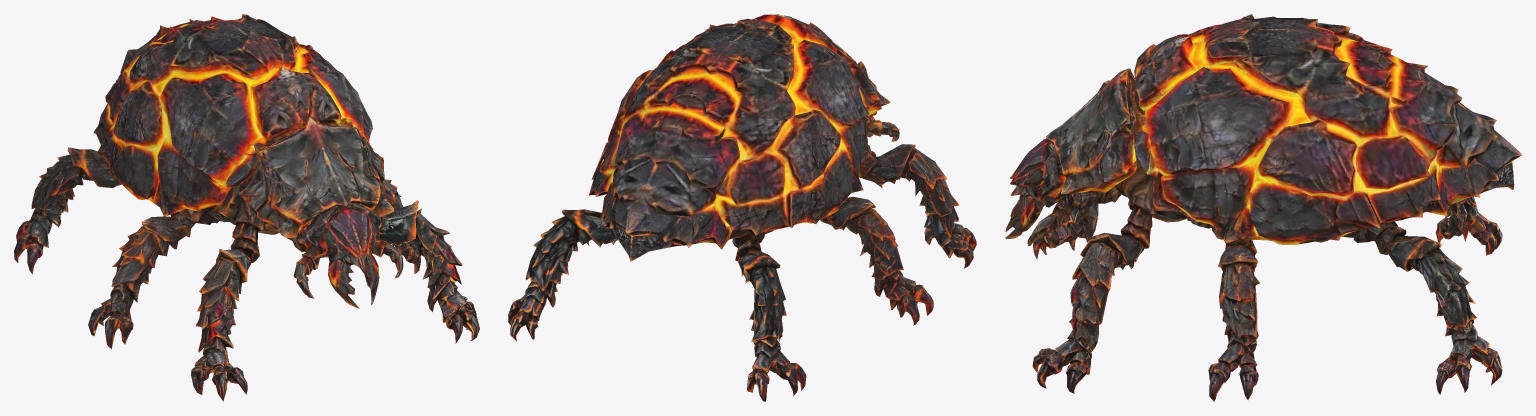
Rendered from emberbeetle.glb.
3 renders of one model, left to right at view 1: azimuth 30°, elevation 25°; view 2: azimuth 150°, elevation 25°; view 3: azimuth 270°, elevation 25°, orthographic. The views are drawn at different scales.
Visible parts, largest first — view 1: Mesh_0; view 2: Mesh_0; view 3: Mesh_0.
Boxes of the visible parts, left/top/right/bottom form: Mesh_0: left=14, top=14, right=479, bottom=401; Mesh_0: left=508, top=14, right=976, bottom=401; Mesh_0: left=1005, top=14, right=1521, bottom=401.
Bounding box in the file's own units: 1.57 × 1.22 × 1.9.
1 material, 1 textured.
